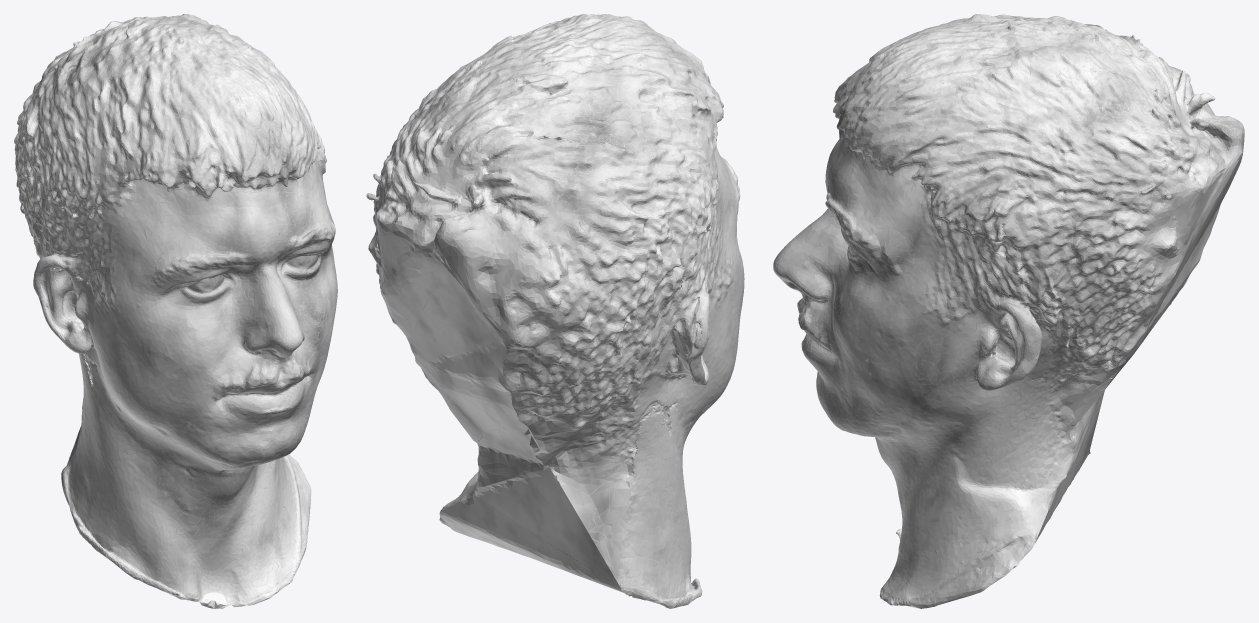
The model's file is josch50k3.glb.
The picture shows the model from 3 angles, left to right: view 1: azimuth 30°, elevation 25°; view 2: azimuth 150°, elevation 25°; view 3: azimuth 270°, elevation 25°; orthographic projection. The views are drawn at different scales.
Visible parts, largest first — view 1: josch3; view 2: josch3; view 3: josch3.
Boxes of the visible parts, x1=… form: josch3: x1=14, y1=14, x2=337, y2=608; josch3: x1=366, y1=14, x2=744, y2=608; josch3: x1=773, y1=14, x2=1244, y2=608.
Size of the model in its own units: 0.1891 by 0.345 by 0.2613.
Materials: 1 (1 with a texture image).
